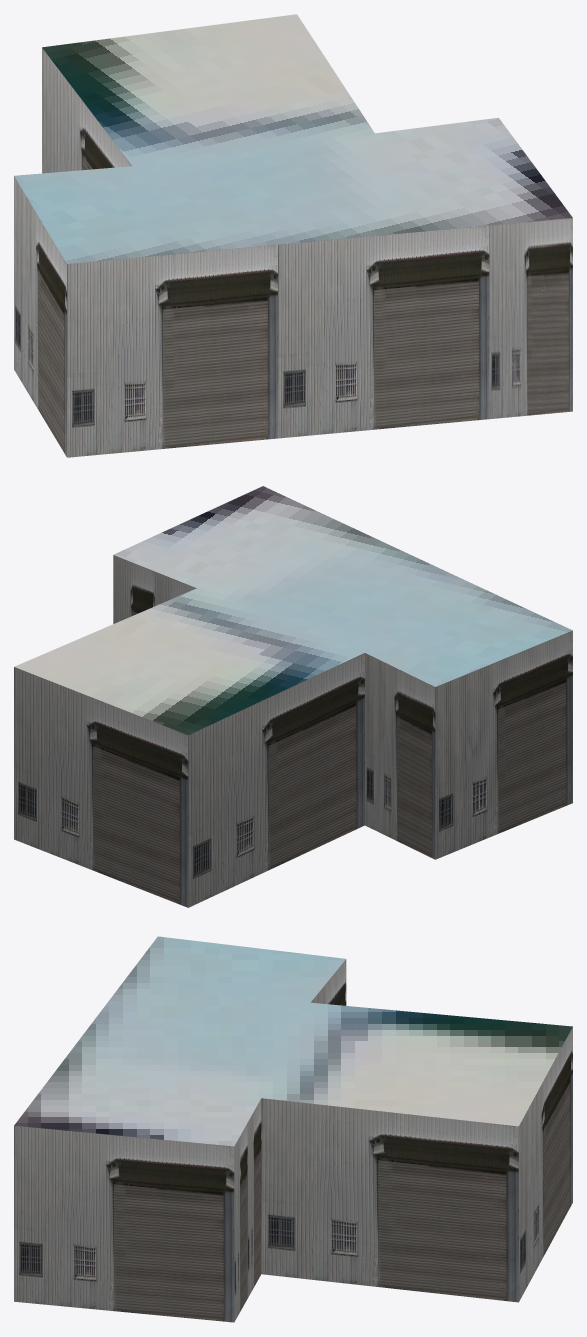
Rendered from T_1T6CA4NVSV.dae.
3 renders of one model, top to bottom at view 1: azimuth 30°, elevation 25°; view 2: azimuth 150°, elevation 25°; view 3: azimuth 270°, elevation 25°, orthographic. The views are drawn at different scales.
Visible parts, largest first — view 1: SketchUp (×5); view 2: SketchUp (×7); view 3: SketchUp (×7).
Boxes of the visible parts, bbox=[...] form: SketchUp (×5): bbox=[14, 14, 572, 457]; SketchUp (×7): bbox=[14, 486, 572, 907]; SketchUp (×7): bbox=[14, 936, 572, 1322].
Bounding box in the file's own units: 9.16 × 10.3 × 3.58.
2 materials, 2 textured.
